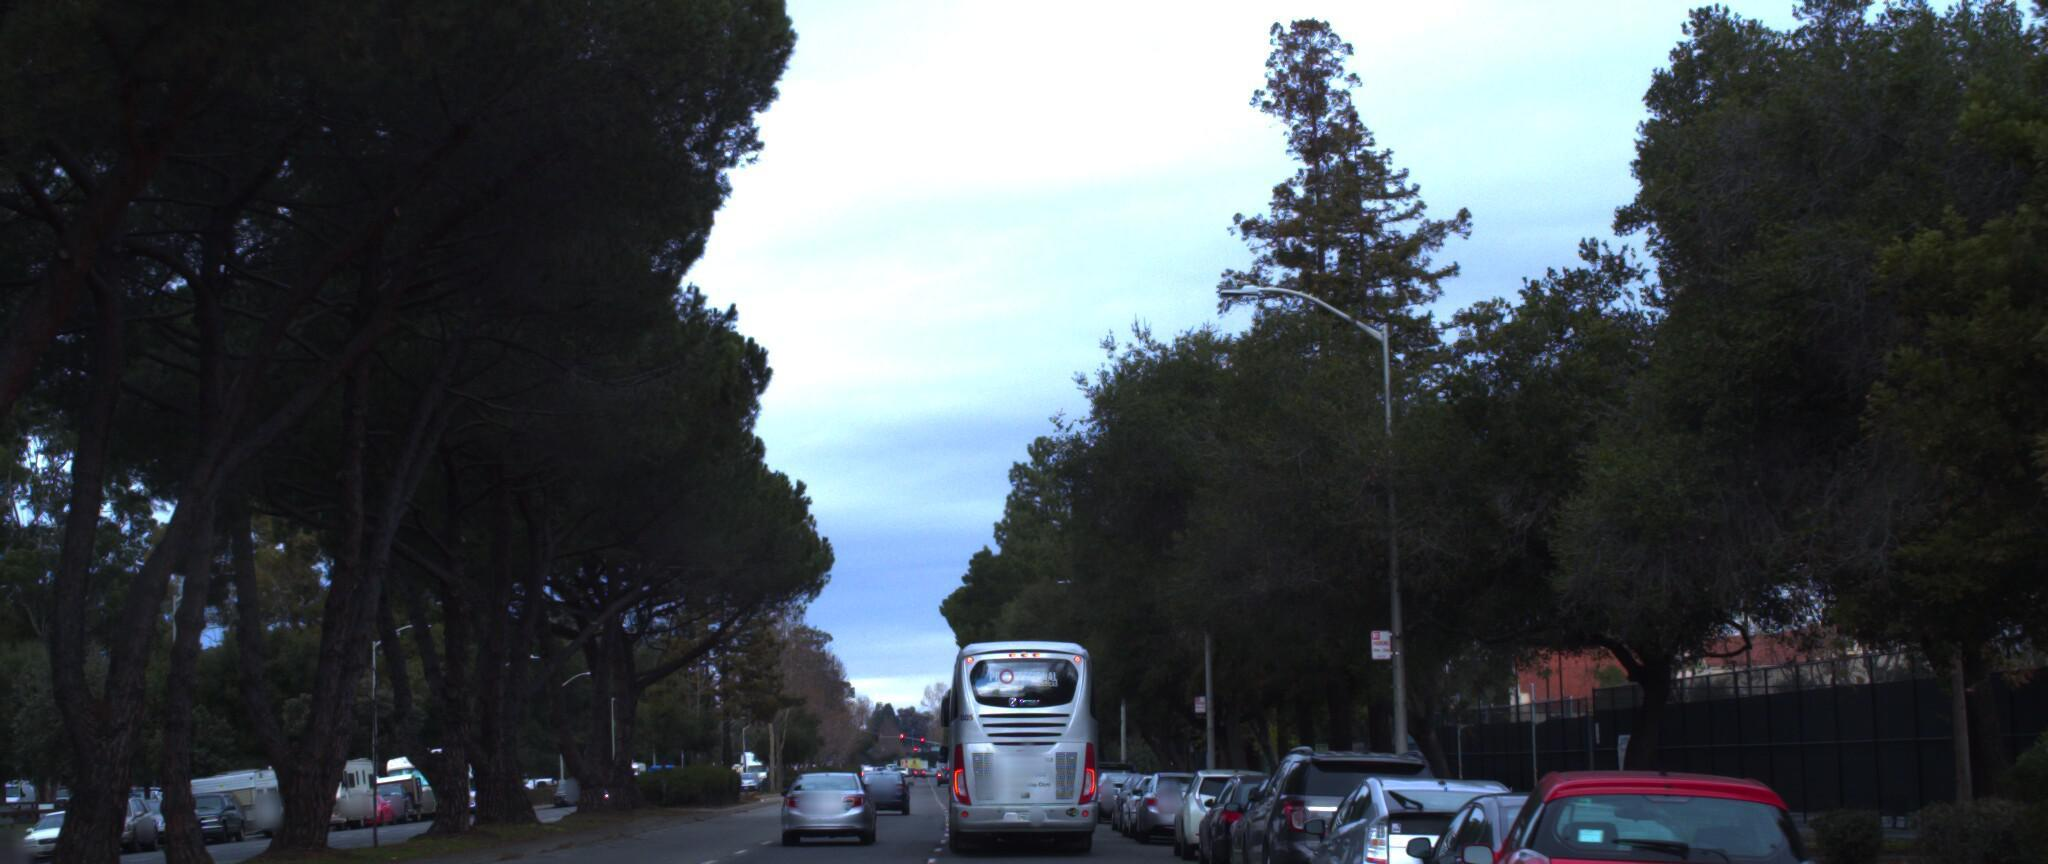bus: (921, 623, 1104, 854)
car: (1458, 747, 1872, 864), (1395, 765, 1750, 864), (1225, 723, 1465, 864), (1292, 754, 1567, 864), (1189, 752, 1339, 864), (1166, 747, 1288, 848), (1128, 748, 1233, 831), (780, 752, 882, 830), (1970, 797, 2048, 864)
